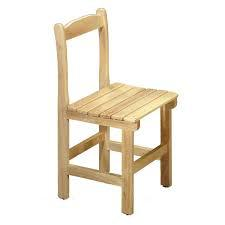chair: (44, 10, 186, 215)
